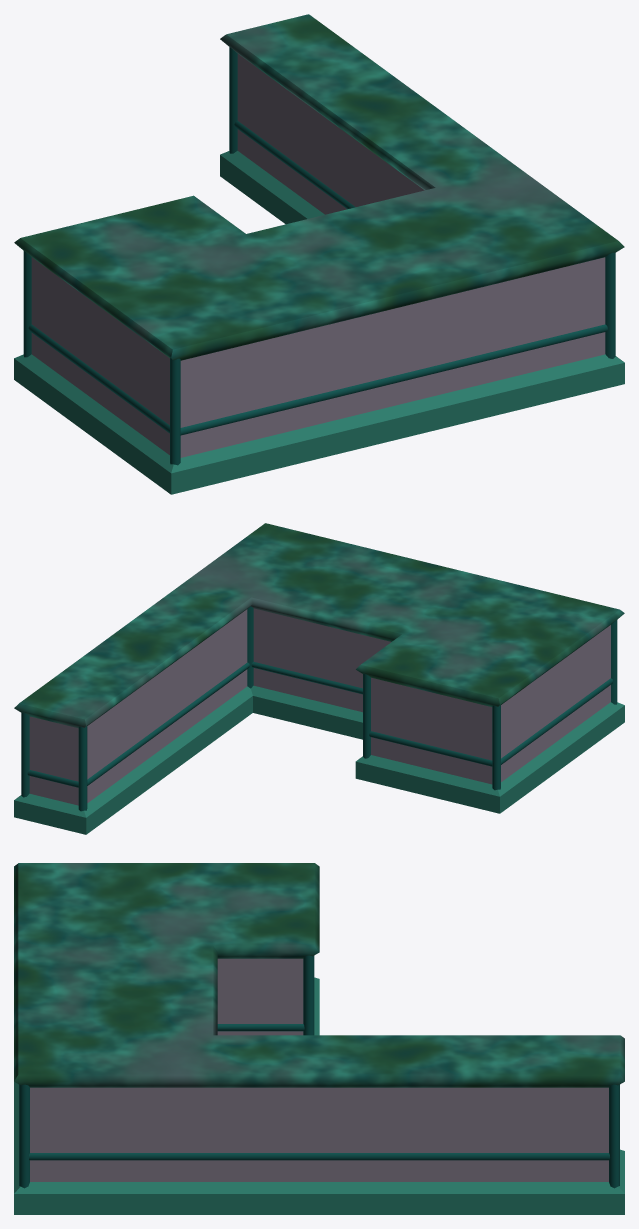
Rendered from EM_112_counter_corner_var1.glb.
3 renders of one model, top to bottom at view 1: azimuth 30°, elevation 25°; view 2: azimuth 150°, elevation 25°; view 3: azimuth 270°, elevation 25°, orthographic. The views are drawn at different scales.
Parts seen in each view (by area): view 1: counter, supports_horizontal, supports_vertical; view 2: counter, supports_vertical, supports_horizontal; view 3: counter, supports_horizontal, supports_vertical.
Part boxes in pixels (<box>): counter: <box>14,14,624,494</box>; supports_horizontal: <box>28,120,607,435</box>; supports_vertical: <box>23,47,615,465</box>; counter: <box>14,523,624,834</box>; supports_vertical: <box>21,606,617,811</box>; supports_horizontal: <box>27,661,613,787</box>; counter: <box>14,863,624,1214</box>; supports_horizontal: <box>29,1024,609,1160</box>; supports_vertical: <box>19,955,619,1188</box>.
Bounding box in the file's own units: 3.75 × 1.12 × 4.5.
Materials: 4 (1 with a texture image).
